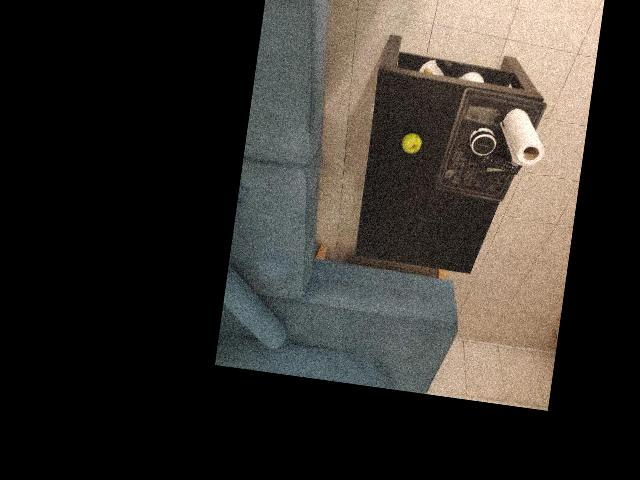apple: (377, 91, 431, 167)
